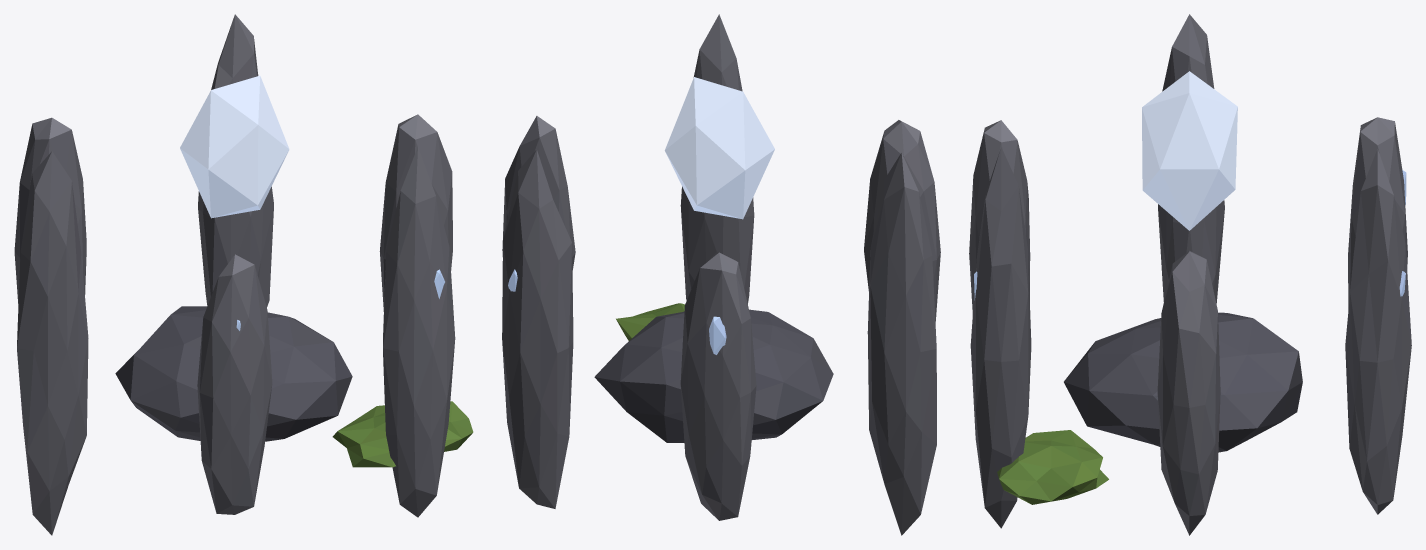
File: dreamb_moon_altar_blue.glb
The picture shows the model from 3 angles, left to right: view 1: azimuth 30°, elevation 25°; view 2: azimuth 150°, elevation 25°; view 3: azimuth 270°, elevation 25°; orthographic projection. The views are drawn at different scales.
Visible parts, largest first — view 1: dreamb_moon_altar_blue_solid, dreamb_moon_altar_blue_glow, dreamb_moon_altar_blue_leaf; view 2: dreamb_moon_altar_blue_solid, dreamb_moon_altar_blue_glow, dreamb_moon_altar_blue_leaf; view 3: dreamb_moon_altar_blue_solid, dreamb_moon_altar_blue_glow, dreamb_moon_altar_blue_leaf.
Part boxes in pixels (x1,y1,x2,y2): dreamb_moon_altar_blue_solid: (14, 14, 455, 535); dreamb_moon_altar_blue_glow: (180, 75, 444, 330); dreamb_moon_altar_blue_leaf: (332, 401, 473, 467); dreamb_moon_altar_blue_solid: (502, 14, 940, 535); dreamb_moon_altar_blue_glow: (508, 77, 774, 354); dreamb_moon_altar_blue_leaf: (616, 303, 684, 340); dreamb_moon_altar_blue_solid: (969, 14, 1411, 535); dreamb_moon_altar_blue_glow: (974, 71, 1406, 300); dreamb_moon_altar_blue_leaf: (997, 430, 1108, 504).
Size of the model in its own units: 1.3 by 1.18 by 1.12.
